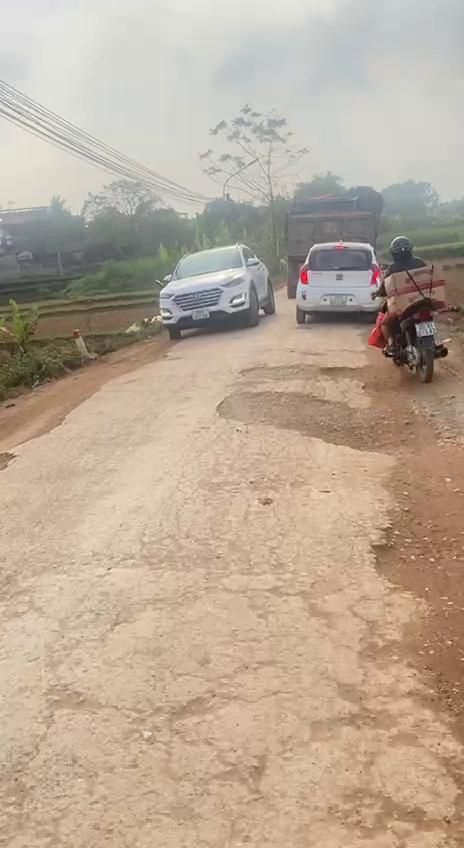pothole: (216, 360, 406, 459), (366, 616, 464, 720), (370, 510, 464, 600), (0, 448, 19, 475)
